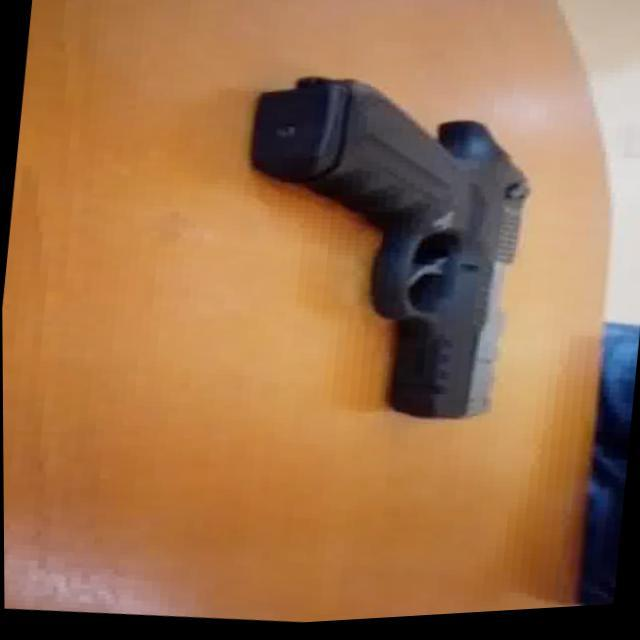weapon: (220, 62, 542, 441)
